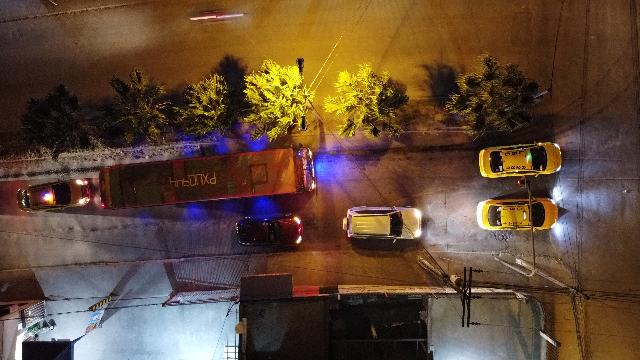Vehiculo: (342, 206, 422, 248), (479, 142, 561, 179), (476, 198, 559, 230), (16, 178, 90, 212), (235, 214, 302, 246)
